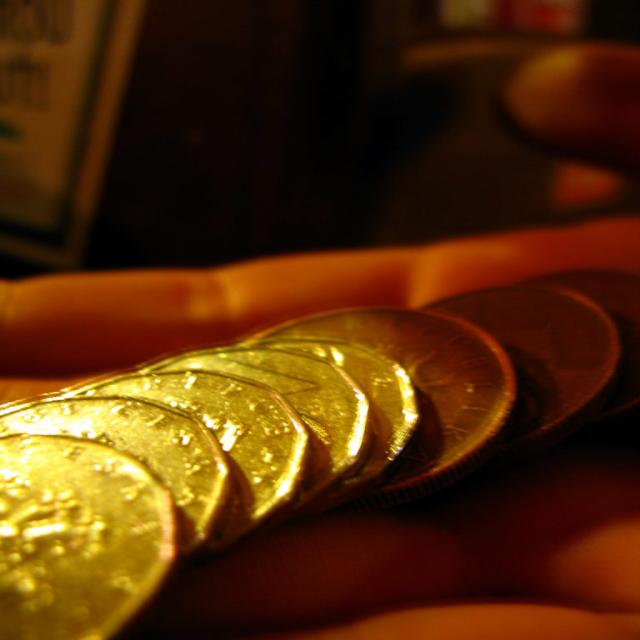Coin: (0, 268, 639, 640)
